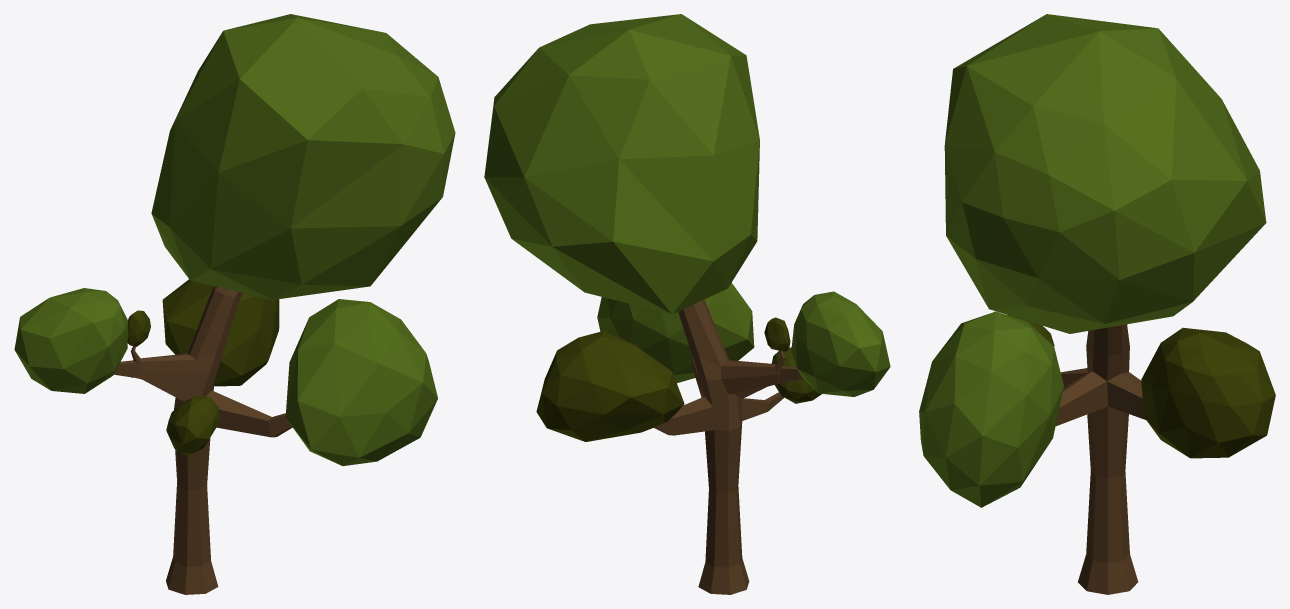
Rendered from lowPoly_someTree.fbx.
The picture shows the model from 3 angles, left to right: view 1: azimuth 30°, elevation 25°; view 2: azimuth 150°, elevation 25°; view 3: azimuth 270°, elevation 25°; orthographic projection. The views are drawn at different scales.
Parts seen in each view (by area): view 1: tree; view 2: tree; view 3: tree.
Boxes of the visible parts, <box> form: tree: <box>14,14,455,594</box>; tree: <box>484,14,890,594</box>; tree: <box>919,14,1275,594</box>.
Bounding box in the file's own units: 2.64 × 3.43 × 1.83.
